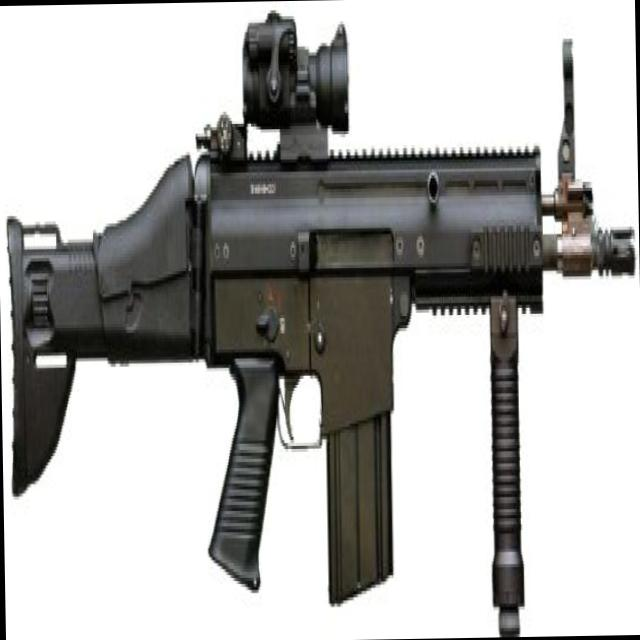Gun: (0, 18, 640, 640)
